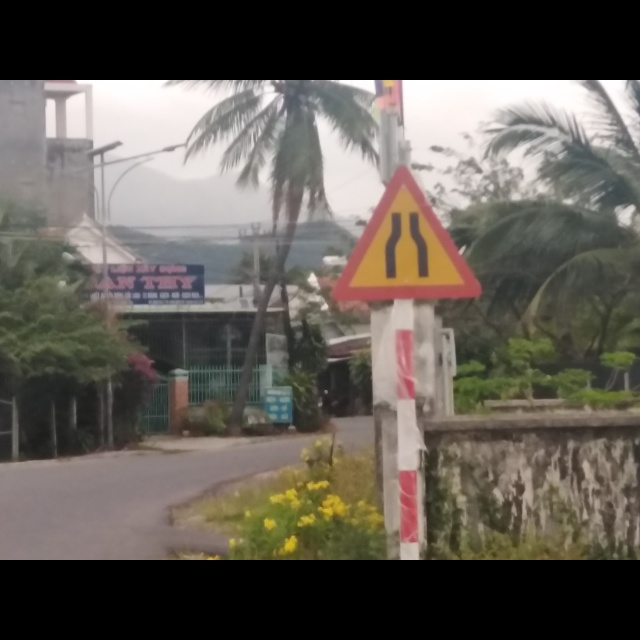Đường bị hẹp cả hai bên: (330, 167, 482, 303)
